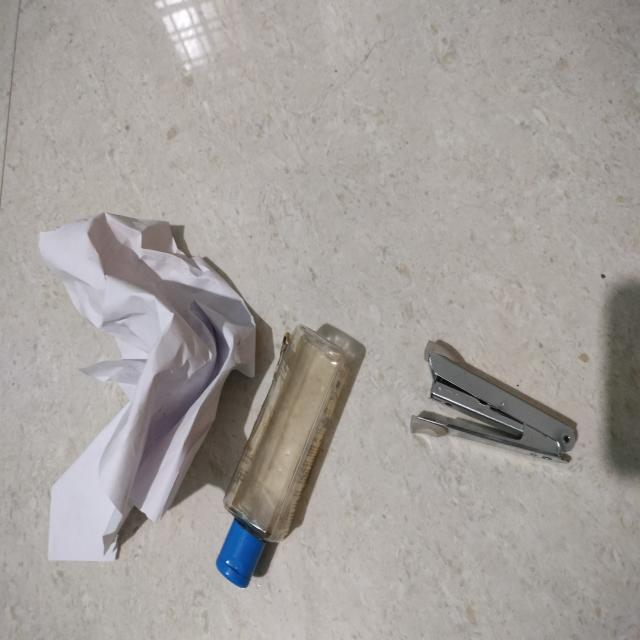metal: (419, 330, 595, 509)
paper: (34, 216, 213, 565)
plastic: (236, 364, 373, 640)
